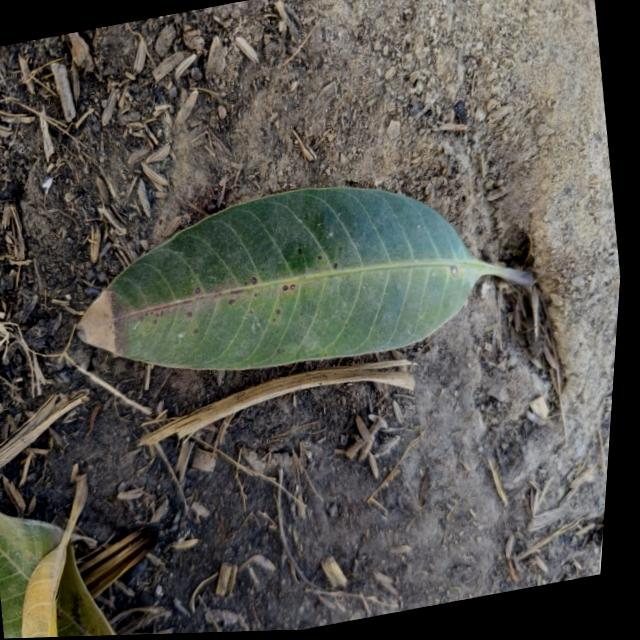Anthracnose: (449, 264, 458, 277), (228, 298, 236, 306), (251, 275, 258, 284), (316, 254, 322, 260), (297, 248, 302, 255), (337, 245, 342, 251), (248, 308, 253, 314), (152, 319, 158, 324), (276, 308, 281, 314), (159, 309, 163, 316), (186, 311, 191, 316), (194, 288, 199, 293), (299, 312, 304, 317), (343, 323, 348, 328), (282, 285, 287, 290), (290, 284, 294, 289), (333, 263, 337, 268), (193, 328, 197, 333), (253, 293, 257, 297), (276, 348, 279, 352)
Bacterial Cancer: (70, 299, 122, 359)
